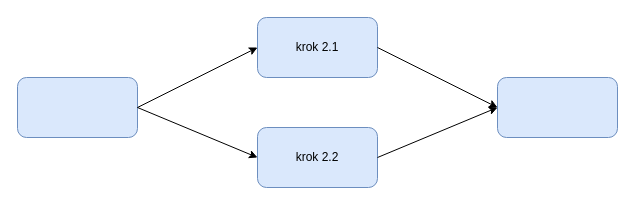
Image size: 635x205. Some labels were removed from this diagram. Here are the shapes that lost their labels. From the top down, the centre of each, then its label:
At point 77,107: "krok 1".
At point 557,107: "krok 3".
